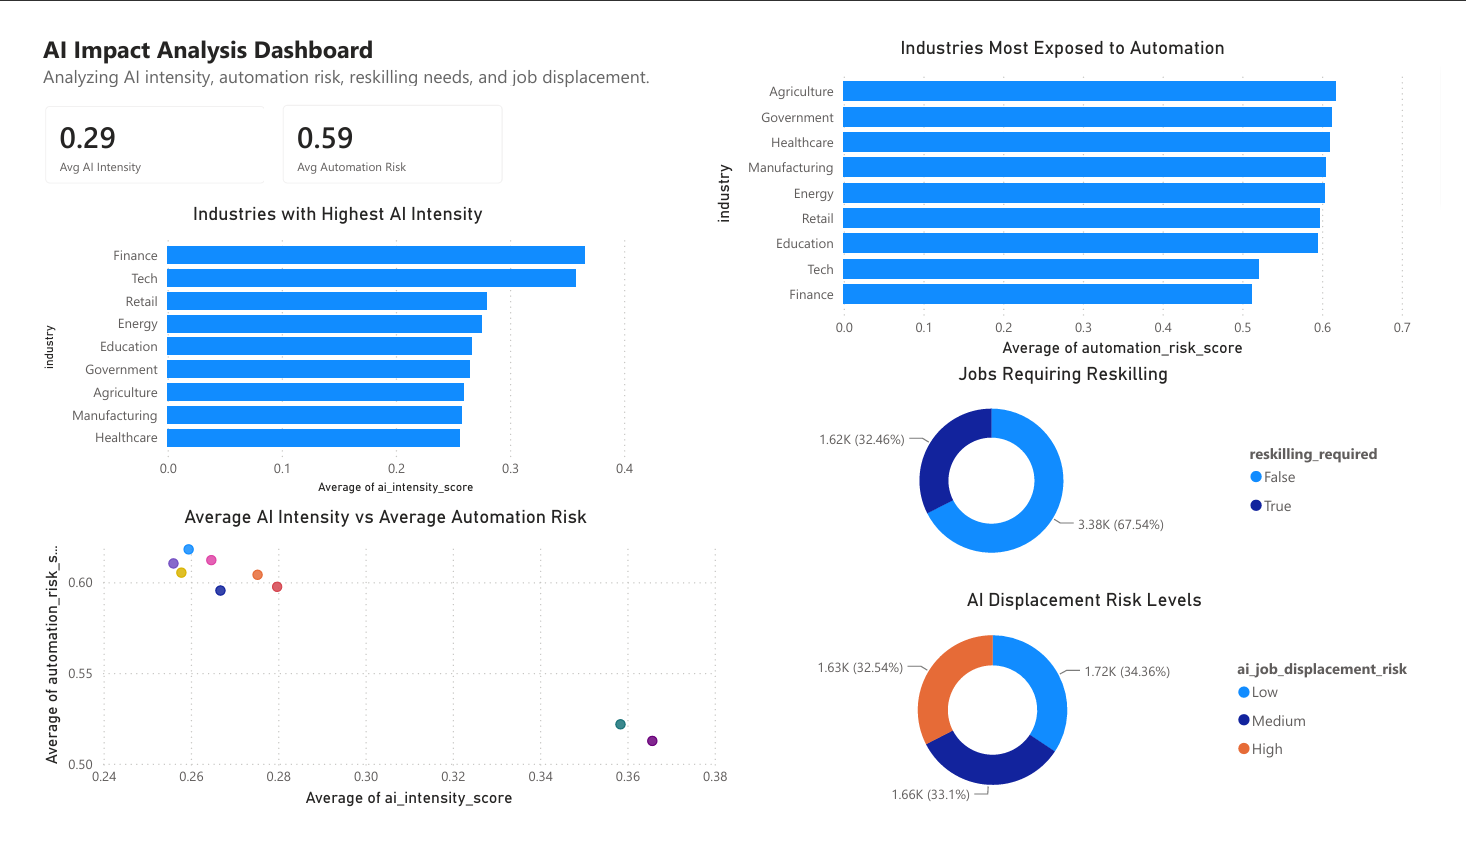

Layout of this report page (visuals, bound fields, positions):
{"tool":"powerbi","page":{"name":"AI Impact Analysis Dashboard","canvas":[1280,720],"ordinal":1},"visuals":[{"type":"textbox","box":[10,0,561.1,65.6],"z":0},{"type":"cardVisual","fields":{"Data":["ai_impact_jobs_2010_2025.Avg AI Intensity"]},"box":[0,53.8,232.5,103.8],"z":1000},{"type":"cardVisual","fields":{"Data":["ai_impact_jobs_2010_2025.Avg Automation Risk"]},"box":[215,52.5,232.5,105],"z":2000},{"type":"donutChart","title":"Jobs Requiring Reskilling","fields":{"Category":["ai_impact_jobs_2010_2025.reskilling_required"],"Y":["CountNonNull(ai_impact_jobs_2010_2025.job_id)"]},"box":[635,303.3,606.7,195],"z":3000},{"type":"donutChart","title":"AI Displacement Risk Levels","fields":{"Category":["ai_impact_jobs_2010_2025.ai_job_displacement_risk"],"Y":["CountNonNull(ai_impact_jobs_2010_2025.job_id)"]},"box":[640,508.3,618.3,201.7],"z":4000},{"type":"clusteredBarChart","title":"Industries with Highest AI Intensity","fields":{"Category":["ai_impact_jobs_2010_2025.industry"],"Y":["Avg(ai_impact_jobs_2010_2025.ai_intensity_score)"]},"box":[10,157.8,544.4,268.9],"z":5000},{"type":"clusteredBarChart","title":"Industries Most Exposed to Automation","fields":{"Category":["ai_impact_jobs_2010_2025.industry"],"Y":["Avg(ai_impact_jobs_2010_2025.automation_risk_score)"]},"box":[617.8,7.8,640,295.6],"z":6000},{"type":"scatterChart","title":"Average AI Intensity vs Average Automation Risk","fields":{"X":["Avg(ai_impact_jobs_2010_2025.ai_intensity_score)"],"Y":["Avg(ai_impact_jobs_2010_2025.automation_risk_score)"],"Series":["ai_impact_jobs_2010_2025.industry"]},"box":[10,432,630,278],"z":7000}]}

Visuals, with their boxes in screenshot pixels (x1, y1, x2, y2), scaled from the page's 1280x720 canvas onto the 1466x847 screenshot:
textbox: <bbox>11, 0, 654, 77</bbox>
cardVisual - ai_impact_jobs_2010_2025.Avg AI Intensity: <bbox>0, 63, 266, 185</bbox>
cardVisual - ai_impact_jobs_2010_2025.Avg Automation Risk: <bbox>246, 62, 513, 185</bbox>
"Jobs Requiring Reskilling" donutChart: <bbox>727, 357, 1422, 586</bbox>
"AI Displacement Risk Levels" donutChart: <bbox>733, 598, 1441, 835</bbox>
"Industries with Highest AI Intensity" clusteredBarChart: <bbox>11, 186, 635, 502</bbox>
"Industries Most Exposed to Automation" clusteredBarChart: <bbox>708, 9, 1441, 357</bbox>
"Average AI Intensity vs Average Automation Risk" scatterChart: <bbox>11, 508, 733, 835</bbox>
